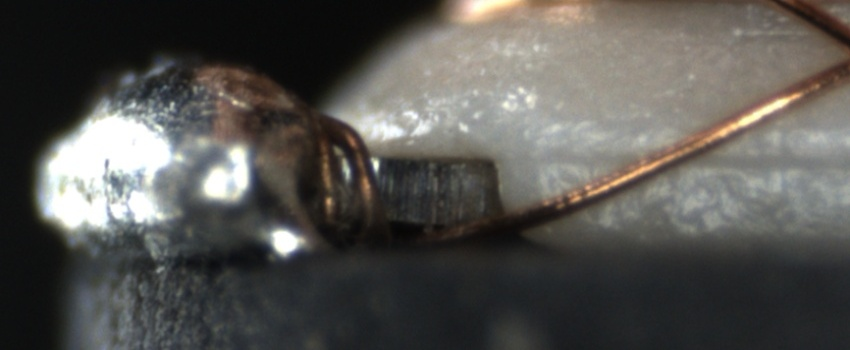DL: (532, 131, 850, 195)
TE: (290, 105, 394, 240)
